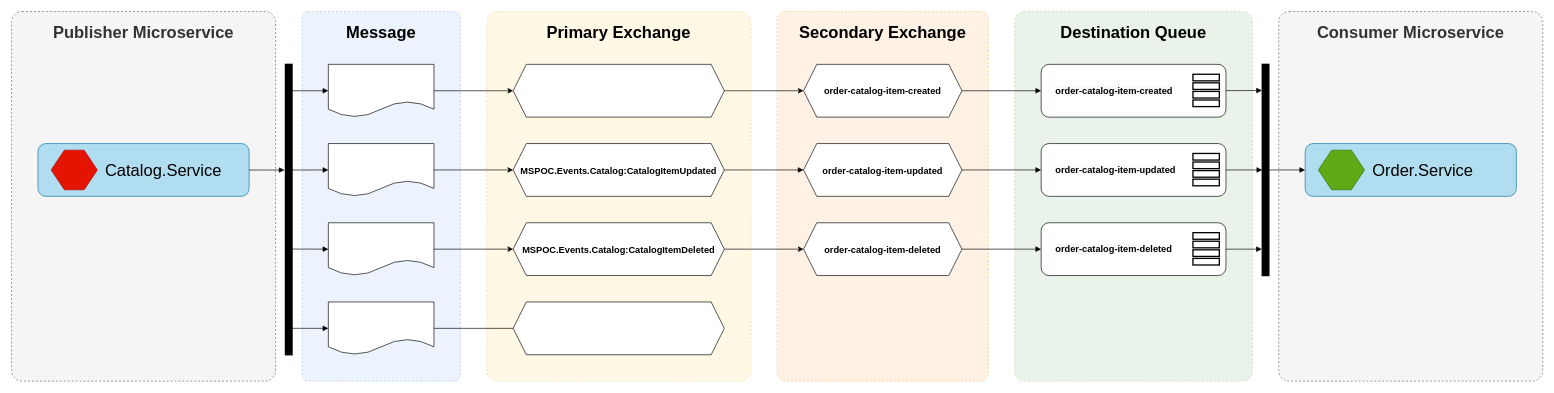
The diagram is 1554 pixels wide and 393 high, and some of its shapes have lost their labels. The shapes that lost their labels are listed below. From the top down, each one's centre as x and y in pixels, then its label:
At point 381,90: "CatalogItemCreated".
At point 618,90: "MSPOC.Events.Catalog:CatalogItemCreated".
At point 381,169: "CatalogItemUpdated".
At point 381,249: "CatalogItemDeleted".
At point 381,328: "CatalogItem LowQuantity".
At point 618,328: "MSPOC.Events.Catalog:CatalogItemLowQuantity".
